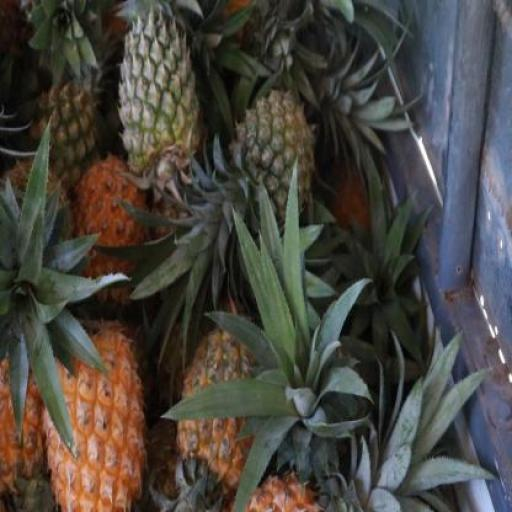Pineapple - v8 v1: (41, 314, 144, 512)
